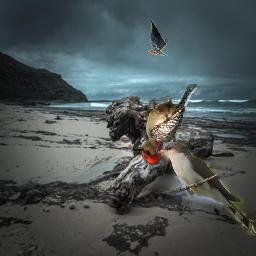Cuckoo: (156, 142, 256, 236)
Woodpecker: (131, 85, 197, 166), (148, 20, 168, 56)
